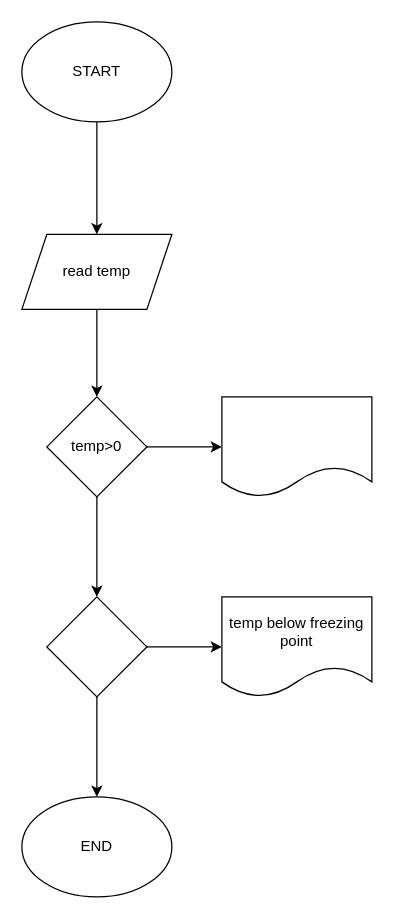
This 394x919 diagram has some shape labels left out. The centre of each missing label's shape, as x and y in pixels:
"temp above freezing point" goes at point (296, 446).
"temp<0" goes at point (96, 646).
